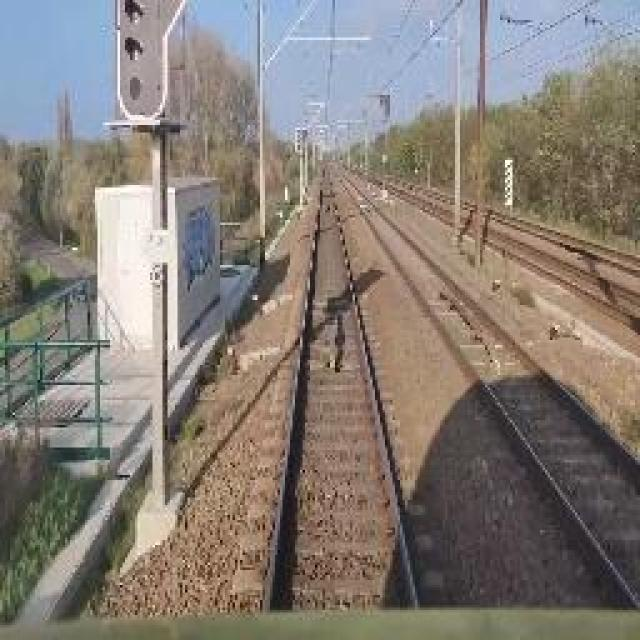rail: (237, 167, 449, 613)
